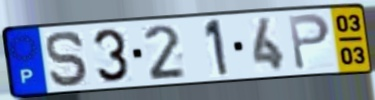1: (203, 17, 231, 80)
2: (142, 23, 190, 82)
3: (91, 26, 132, 86)
4: (251, 15, 288, 74)
P: (286, 12, 333, 72)
S: (44, 29, 92, 88)
